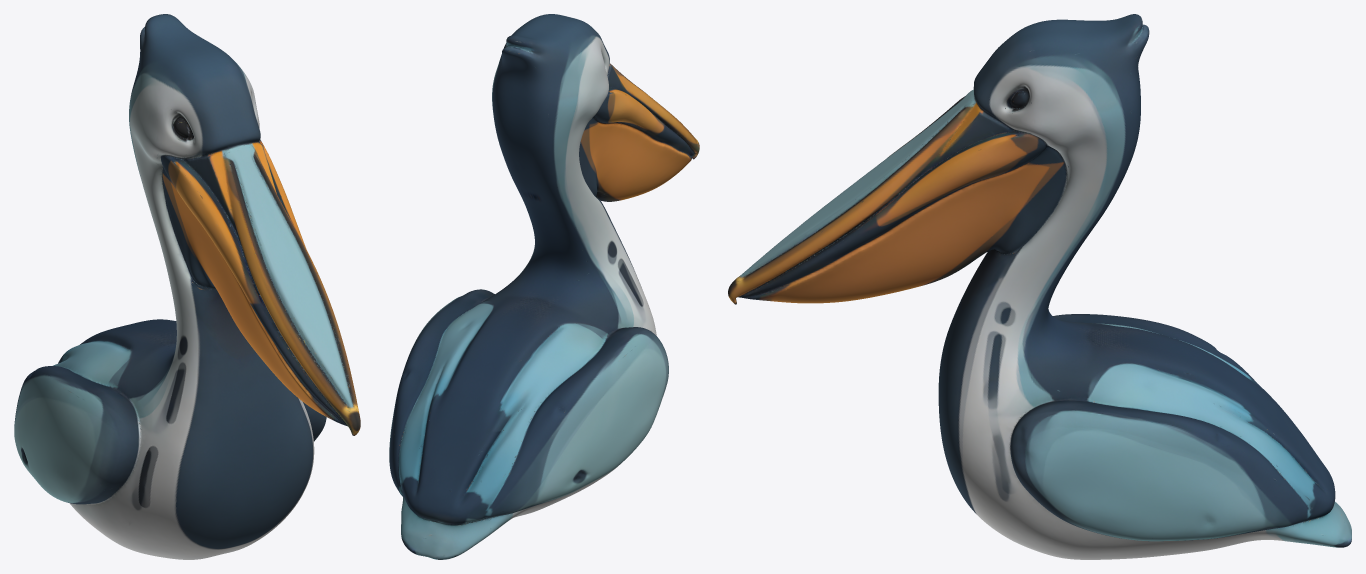
Rendered from Pelican.glb.
3 views of the same model, side by side, from view 1: azimuth 30°, elevation 25°; view 2: azimuth 150°, elevation 25°; view 3: azimuth 270°, elevation 25° (orthographic). The views are drawn at different scales.
Bounding box in the file's own units: 0.9081 × 1.85 × 2.
1 material, 1 textured.
